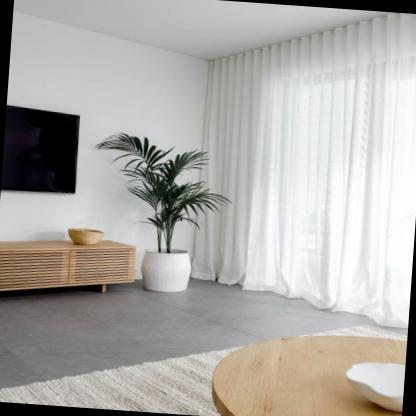Ceramic floor: (0, 278, 408, 390)
Curtains: (171, 12, 416, 329)
TV stand: (0, 241, 137, 295)
